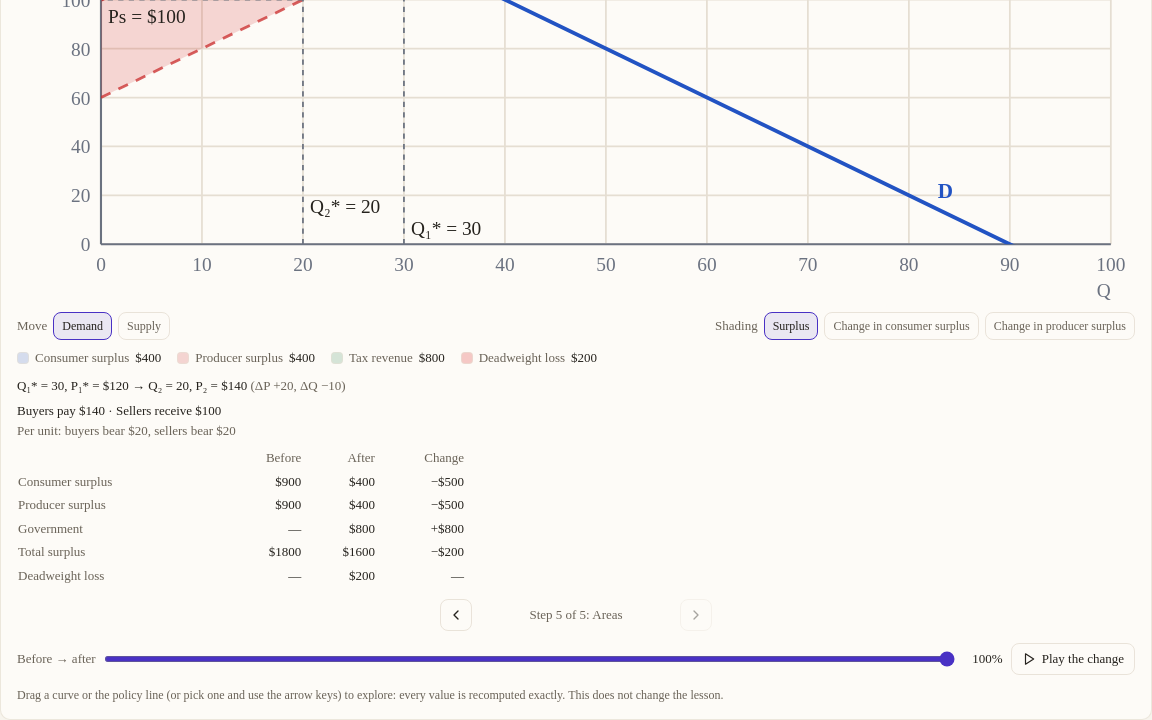
Scenario: market_2d rendering › moves from before to after with the slider
This screenshot has width=1152, height=720.
(page scrolled)
Set the slider to "0" at (112, 659), box 104,656 -> 955,662
(page scrolled)
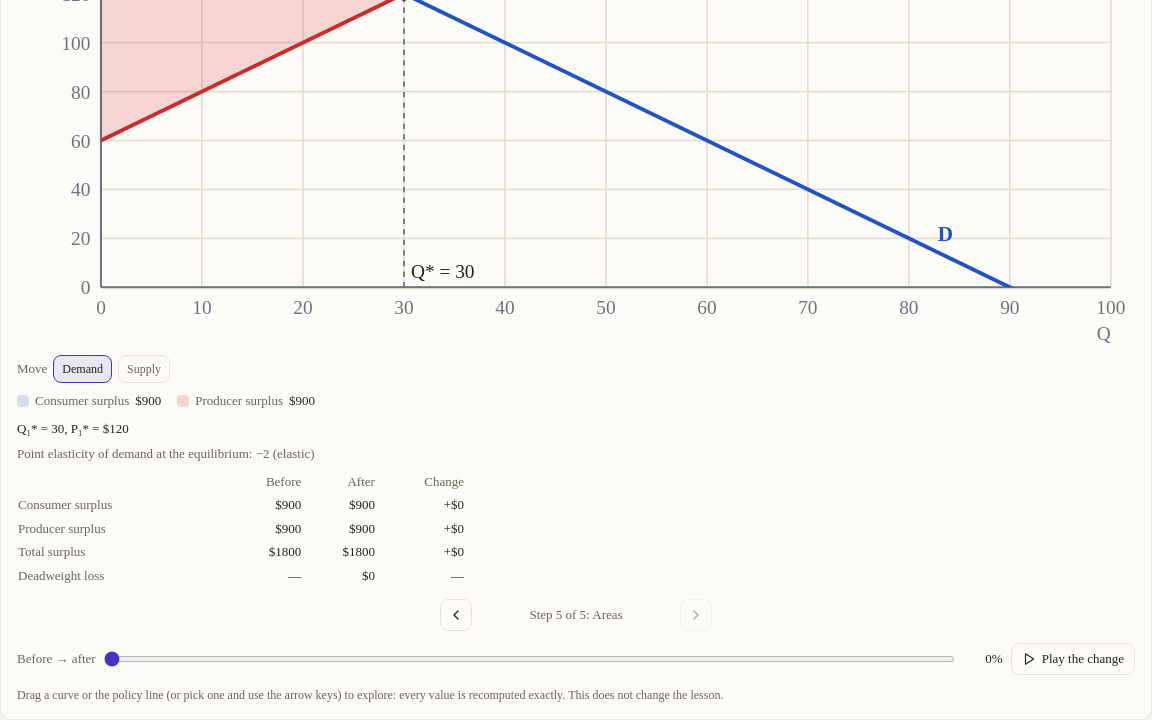
Set the slider to "0.5" at (529, 659), box 104,656 -> 955,662
(page scrolled)
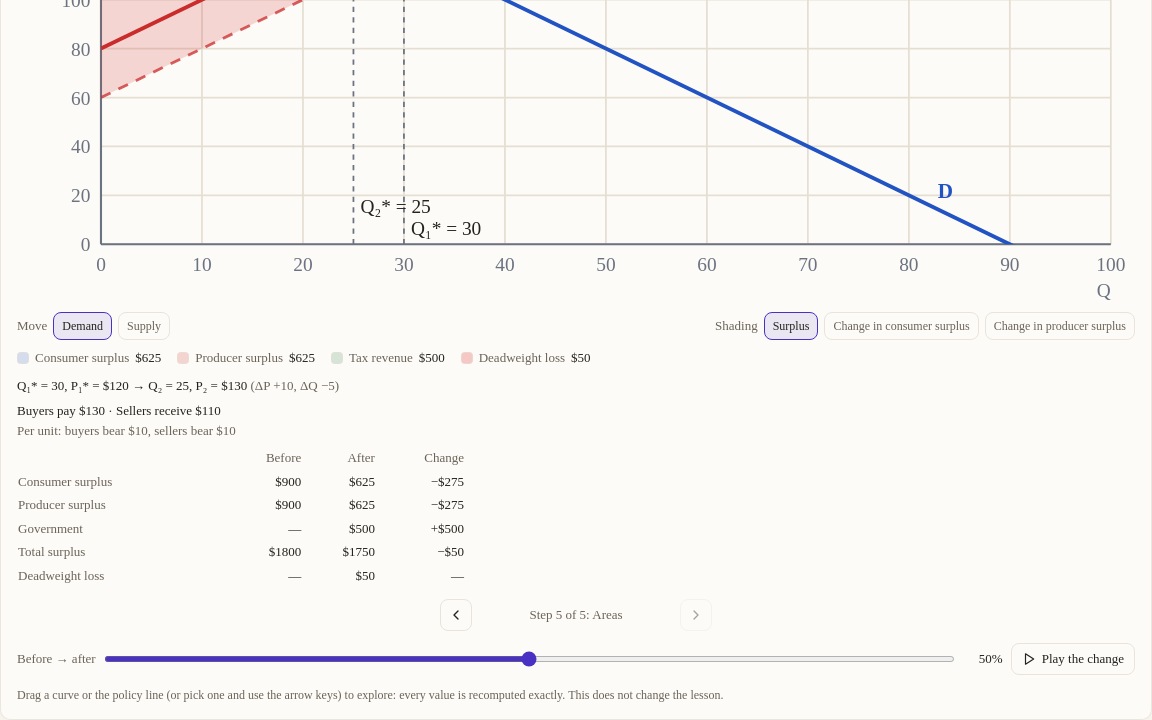
expect the element that starts with "Q₁* = 30, P₁* = $120" shows "Q₂ = 25": met, box 129,378 -> 247,393
